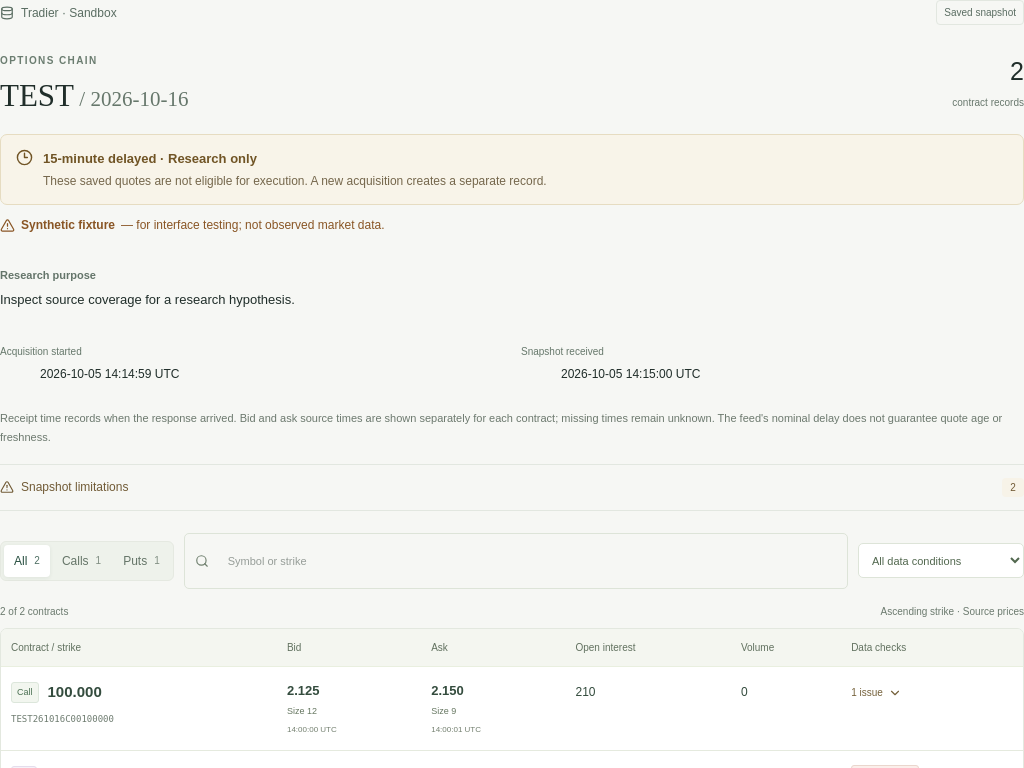
Test case: saved options-chain inspector › filters recorded rows by side, strike and data condition and recovers empty results
The image size is (1024, 768).
Click the button "Calls 1". click: (82,561)
box: [52,545,111,577]
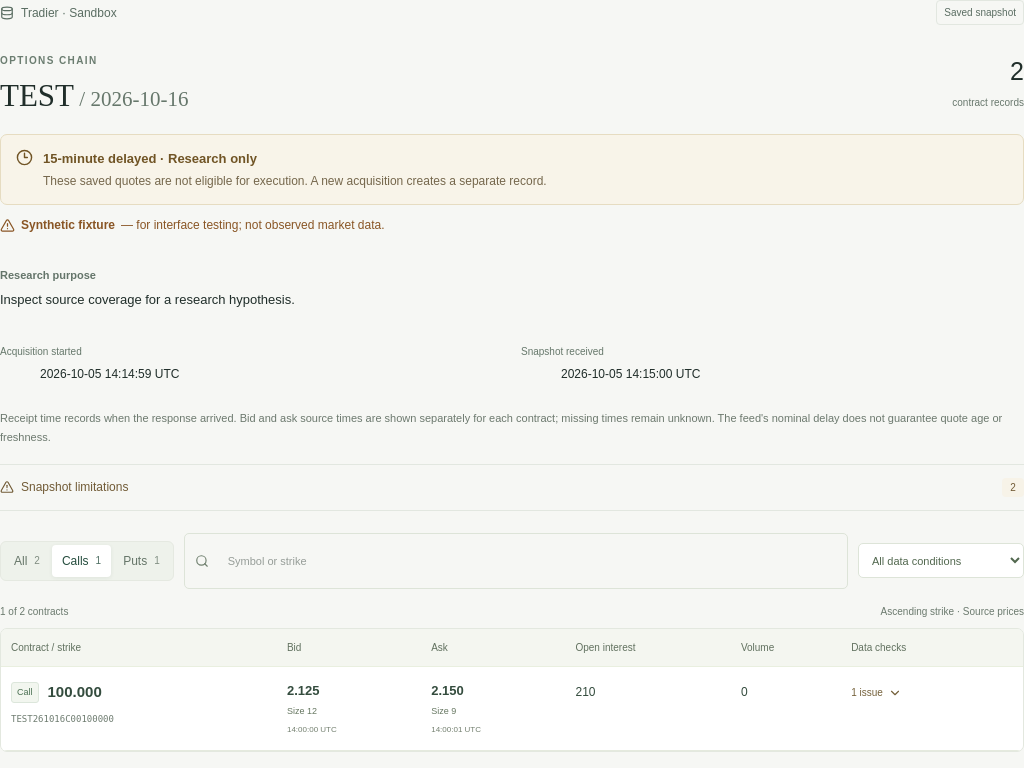
Result: the message reads "1 of 2 contracts" at [0,604,68,619]
Select "Missing bid or ask" in the dropdown named "Filter data issues". click: (941,561)
box: [858,543,1023,578]
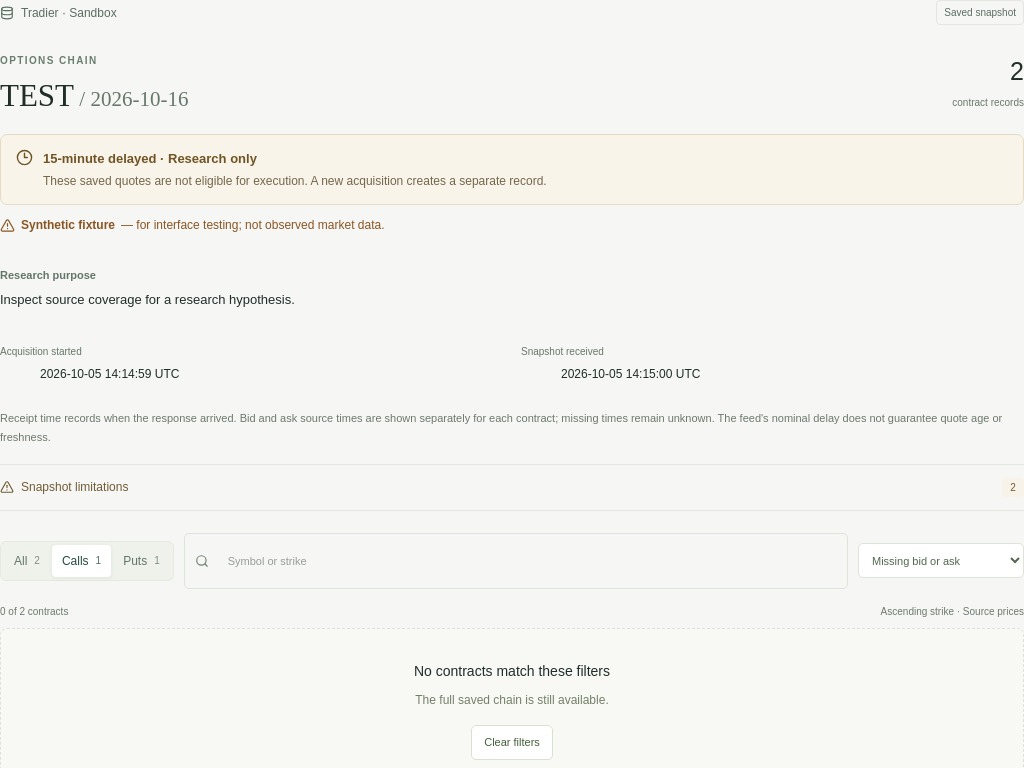
Result: the heading "No contracts match these filters" is shown at [414,663,610,679]
Click the button "Clear filters". click: (512,743)
box: [471,725,553,760]
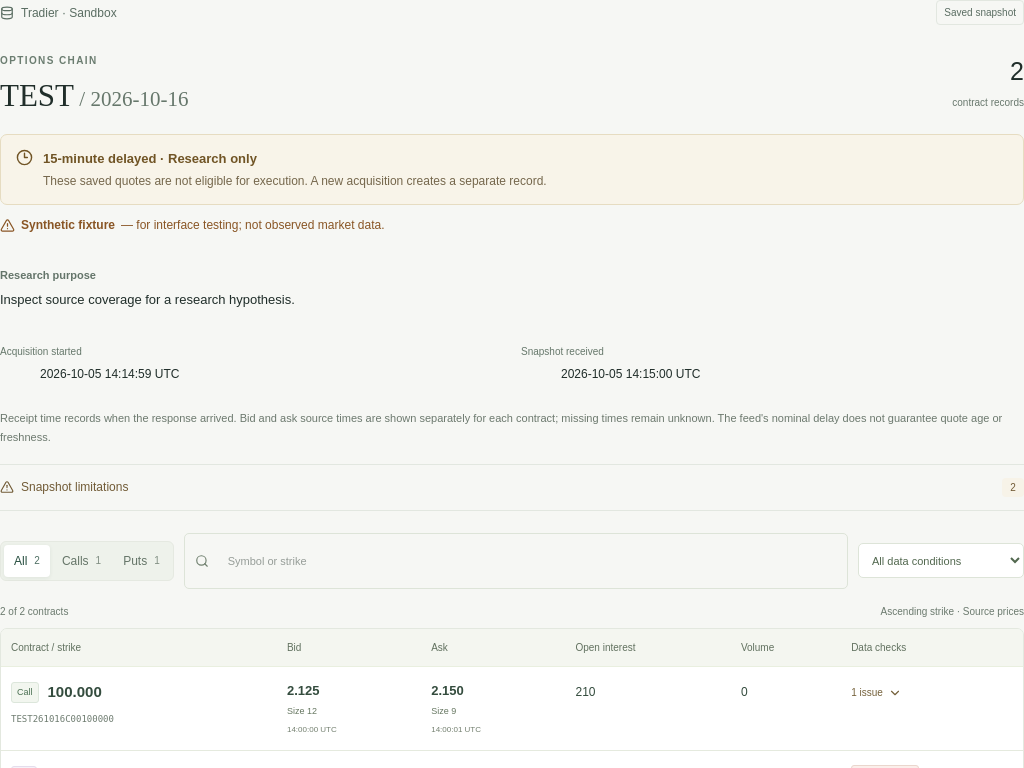
Type "105" into the field named "Search symbol or strike". click: (526,561)
box: [216,542,837,579]
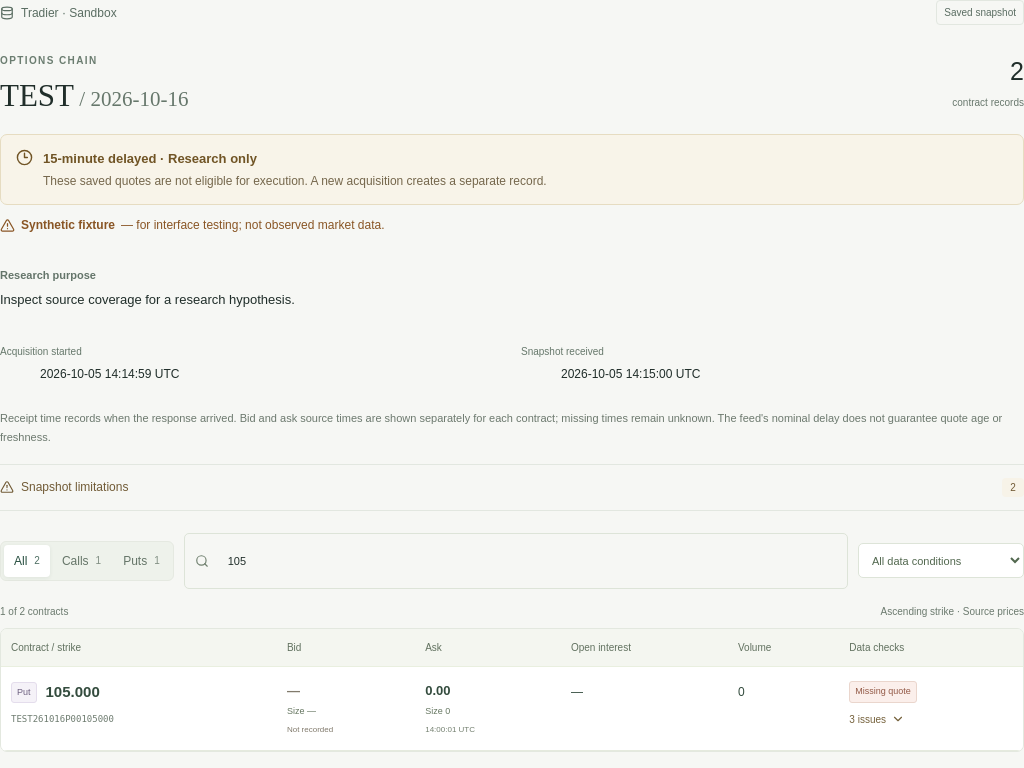
Result: the text "TEST261016P00105000" is shown at [11,714,114,724]
Result: the message reads "1 of 2 contracts" at [0,604,68,619]
Clear the field named "Search symbol or strike". click: (526,561)
box: [216,542,837,579]
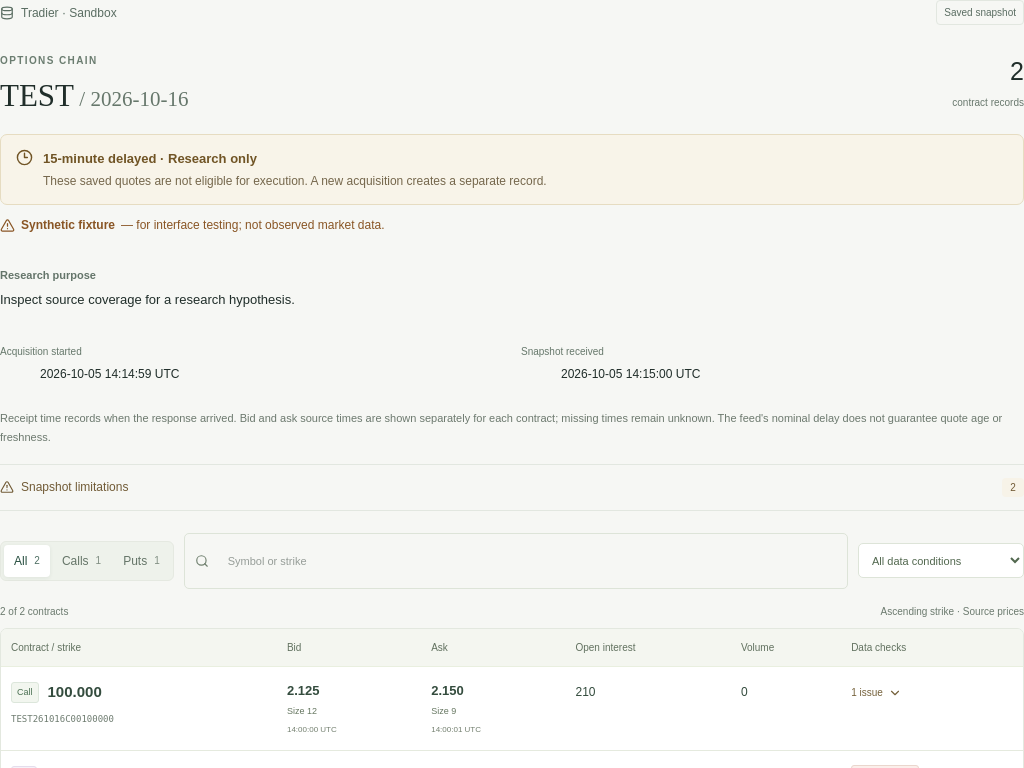
Click the button "Puts 1". click: (141,561)
box: [113,545,170,577]
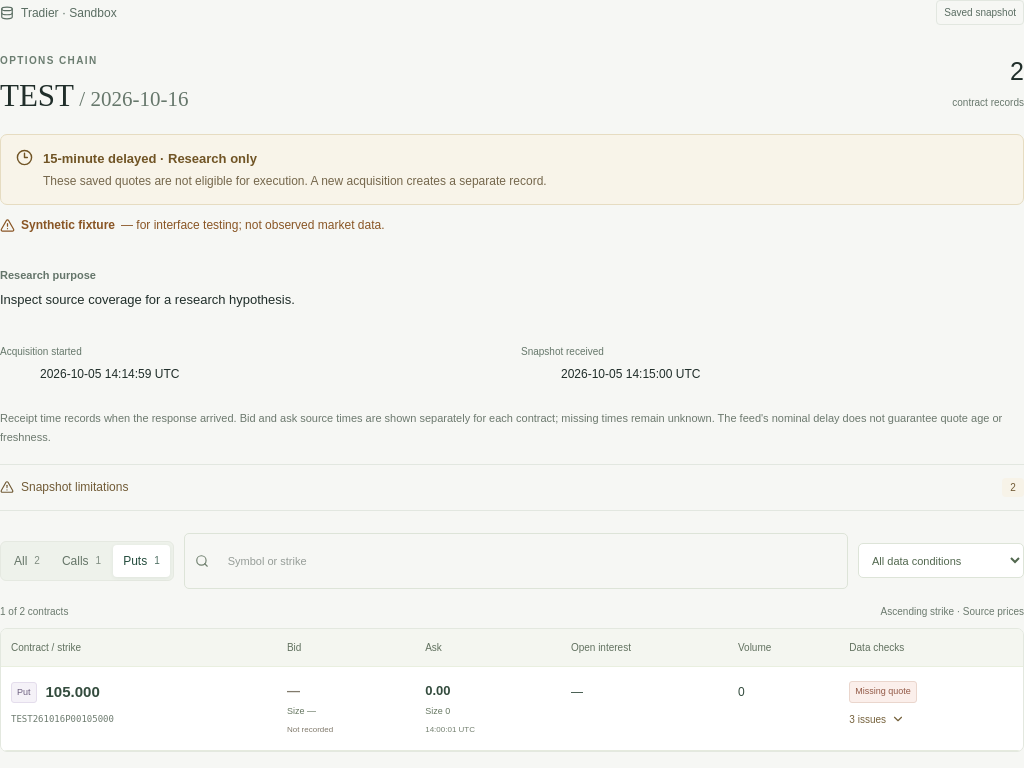
Result: the text "TEST261016C00100000" is gone
